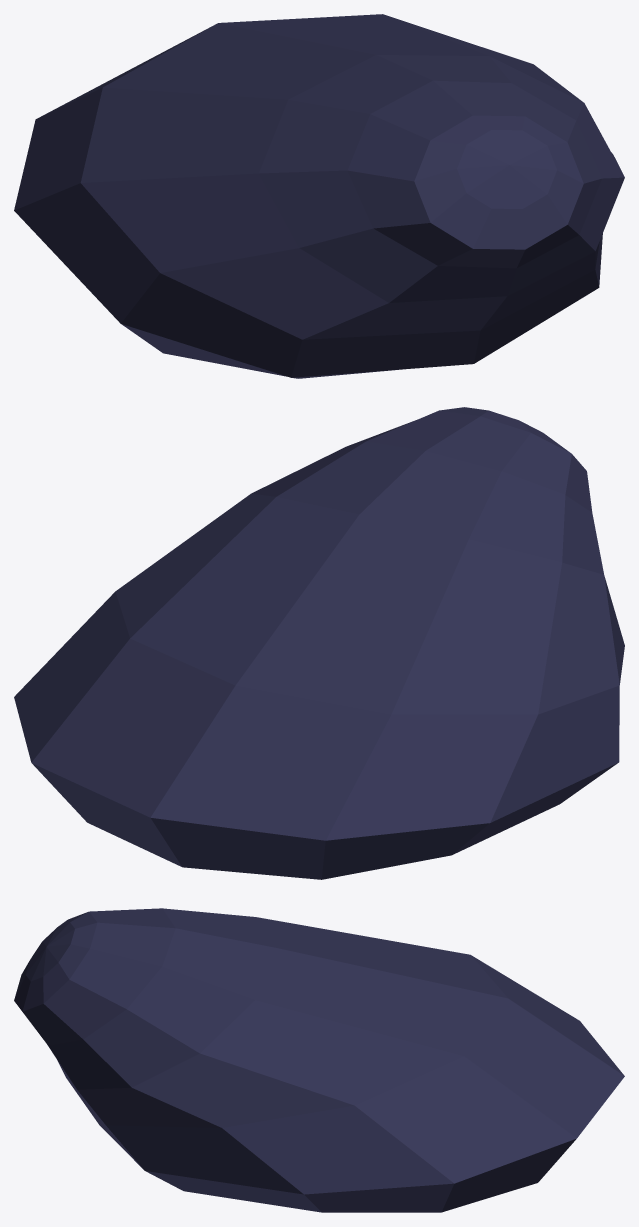
Rendered from GarbageBag02.fbx.
3 views of the same model, one above another, from view 1: azimuth 30°, elevation 25°; view 2: azimuth 150°, elevation 25°; view 3: azimuth 270°, elevation 25° (orthographic). The views are drawn at different scales.
Visible parts, largest first — view 1: Sphere; view 2: Sphere; view 3: Sphere.
Part boxes in pixels (x1,y1,x2,y2): Sphere: [14, 14, 624, 378]; Sphere: [14, 407, 624, 879]; Sphere: [14, 908, 624, 1212].
Bounding box in the file's own units: 200 × 109 × 256.
